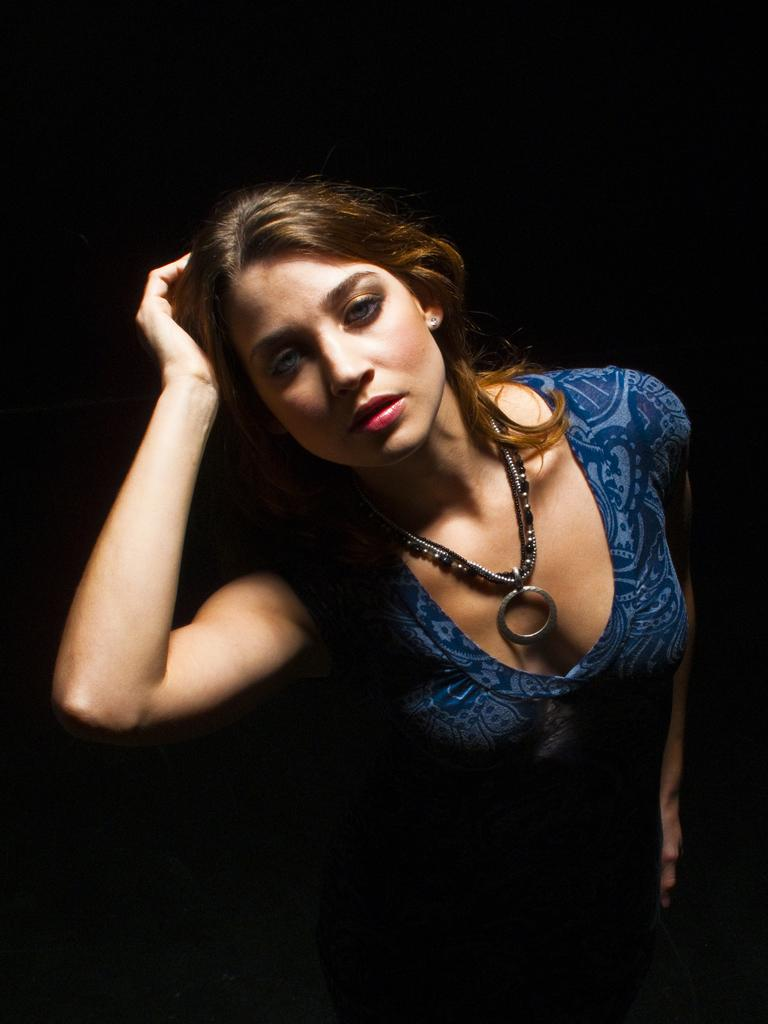Sem Máscara: (219, 244, 445, 459)
